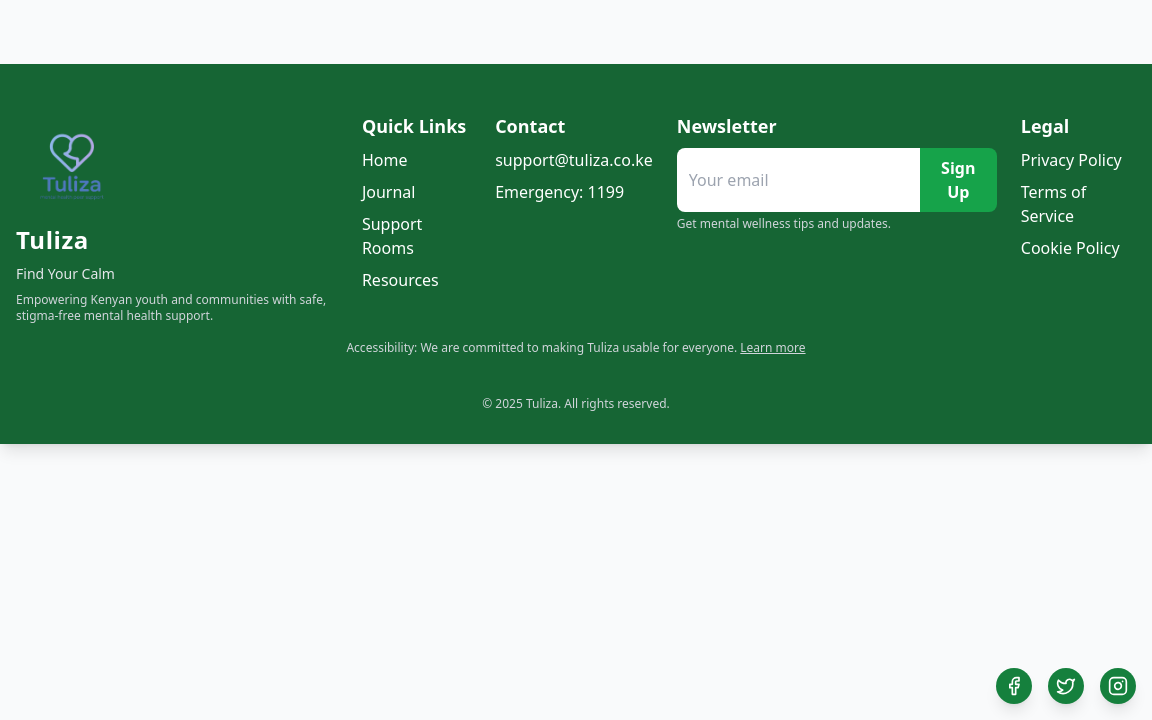
Test: Footer Component › handles newsletter failure
Type "test@example.com" into the field named "Email address" at point(798, 180), box x1=677 y1=148 x2=920 y2=212
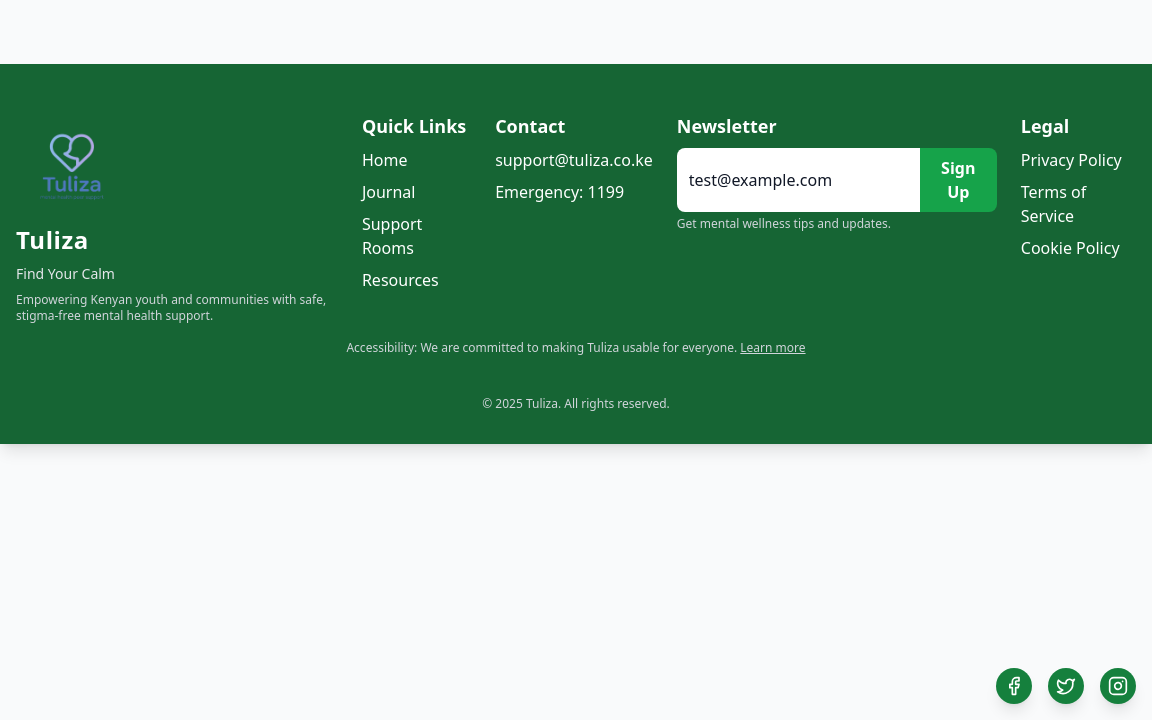
Click the button "Sign Up" at point(958, 180), box x1=920 y1=148 x2=997 y2=212
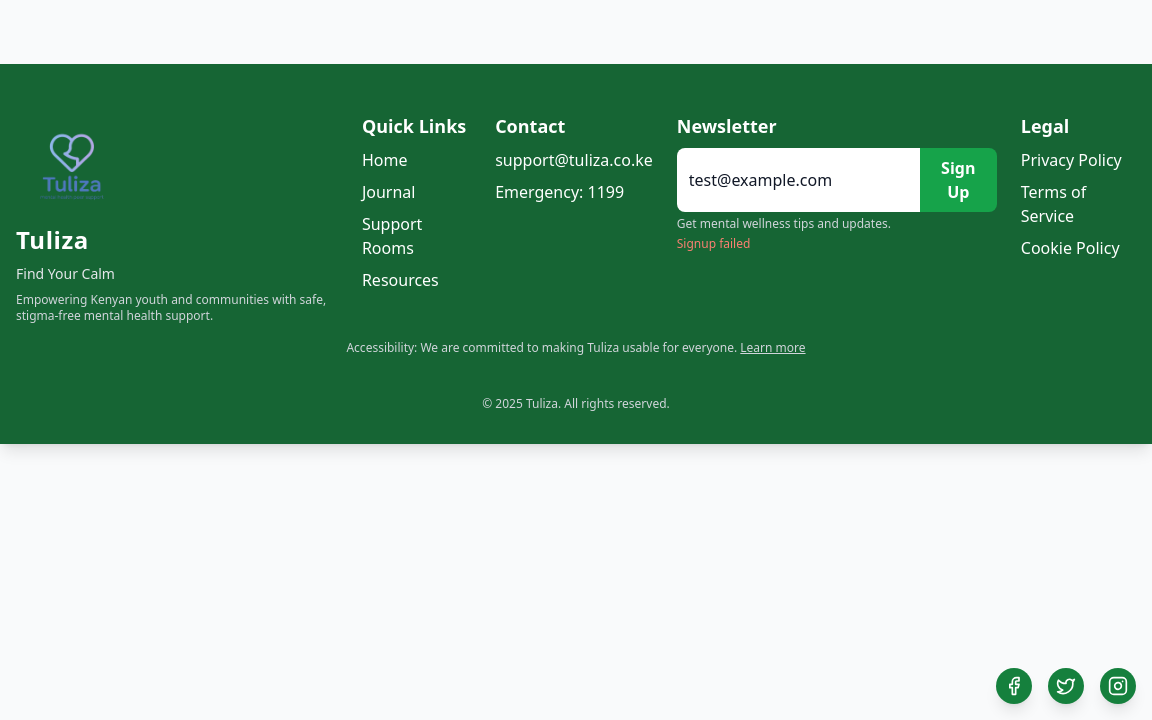
Now the text "Signup failed" is shown, box x1=677 y1=236 x2=750 y2=252
